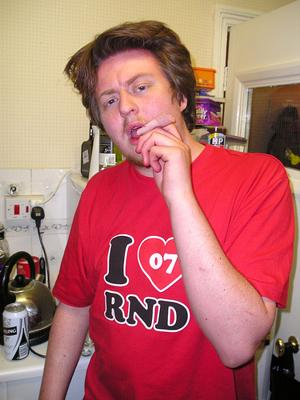person: (38, 18, 296, 400)
